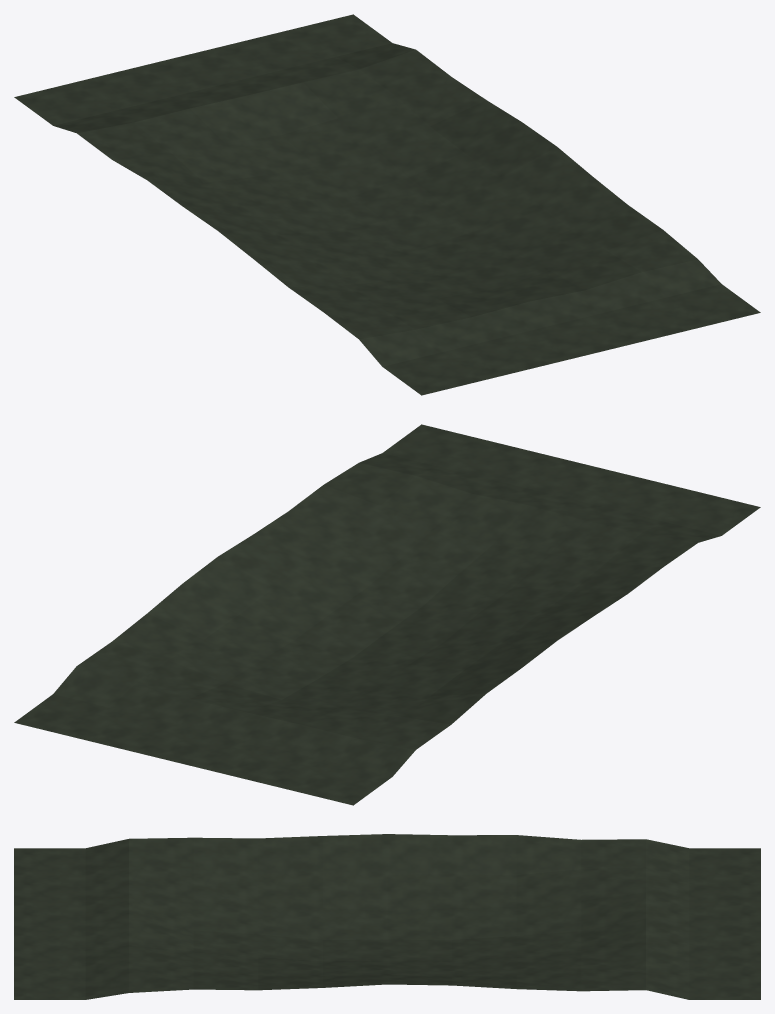
The model's file is S7U_AntiDroneNet_2.5m.fbx.
3 views of the same model, one above another, from view 1: azimuth 30°, elevation 25°; view 2: azimuth 150°, elevation 25°; view 3: azimuth 270°, elevation 25° (orthographic). The views are drawn at different scales.
Parts seen in each view (by area): view 1: S7U_AntiDroneNet_2.5m; view 2: S7U_AntiDroneNet_2.5m; view 3: S7U_AntiDroneNet_2.5m.
Part boxes in pixels (x1,y1,x2,y2): S7U_AntiDroneNet_2.5m: [14, 14, 760, 395]; S7U_AntiDroneNet_2.5m: [14, 424, 760, 805]; S7U_AntiDroneNet_2.5m: [14, 834, 760, 999].
Bounding box in the file's own units: 2.5 × 0.2408 × 5.2.
